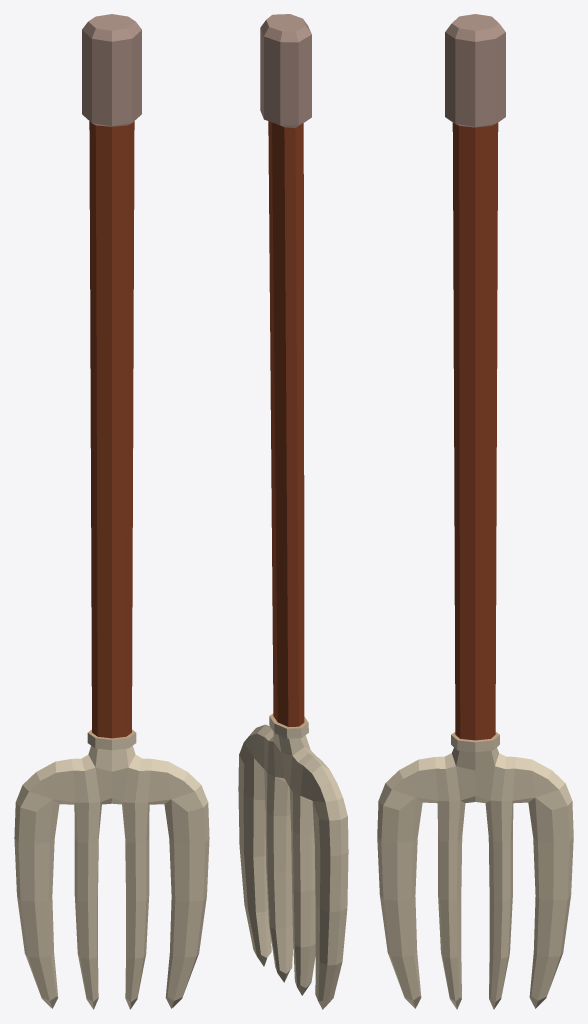
Rendered from fork.glb.
The picture shows the model from 3 angles, left to right: view 1: azimuth 90°, elevation 25°; view 2: azimuth 210°, elevation 25°; view 3: azimuth 270°, elevation 25°; orthographic projection. The views are drawn at different scales.
Parts seen in each view (by area): view 1: fork; view 2: fork; view 3: fork.
Boxes of the visible parts, bbox=[...] form: fork: bbox=[14, 14, 209, 1009]; fork: bbox=[238, 14, 348, 1009]; fork: bbox=[377, 14, 573, 1009].
Size of the model in its own units: 0.2752 by 5.78 by 1.04.
1 material, 1 textured.
